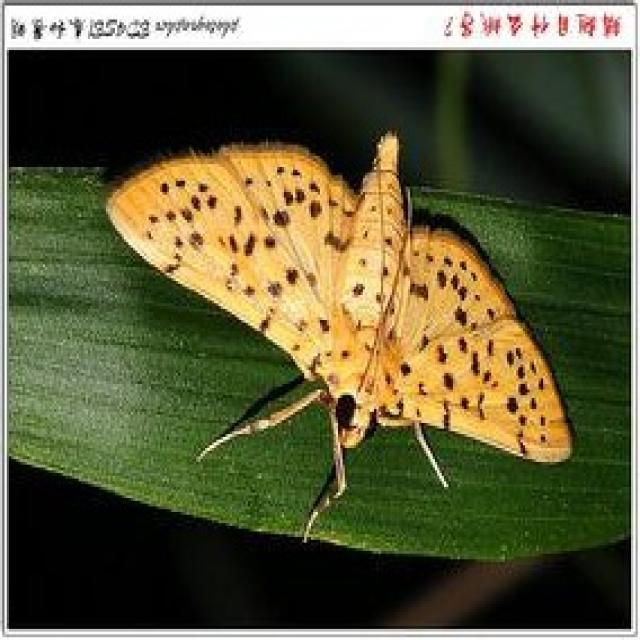peach borer: (100, 131, 583, 529)
